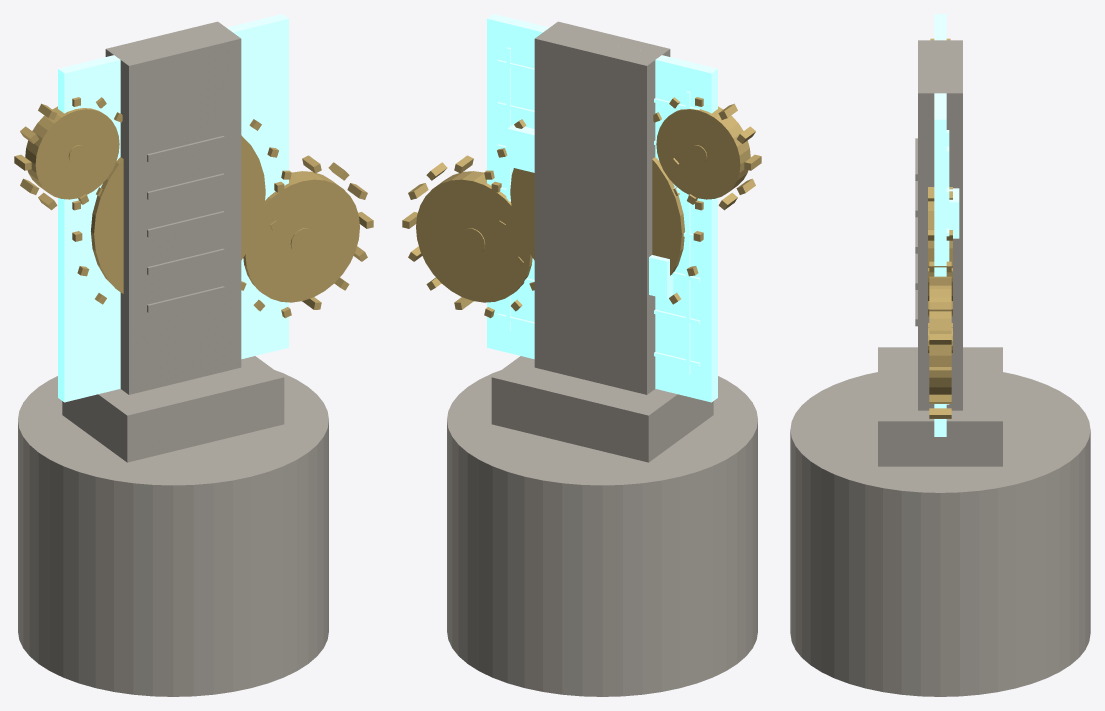
The model's file is RevealSculpture.glb.
The picture shows the model from 3 angles, left to right: view 1: azimuth 30°, elevation 25°; view 2: azimuth 150°, elevation 25°; view 3: azimuth 270°, elevation 25°; orthographic projection. The views are drawn at different scales.
Visible parts, largest first — view 1: Reveal_Pedestal, Reveal_Stage_Roman, Reveal_Stage_Gears, Reveal_Stage_Circuit; view 2: Reveal_Pedestal, Reveal_Stage_Roman, Reveal_Stage_Gears, Reveal_Stage_Circuit; view 3: Reveal_Pedestal, Reveal_Stage_Roman, Reveal_Stage_Gears, Reveal_Stage_Circuit.
Boxes of the visible parts, <box> form: Reveal_Pedestal: <box>18,370,328,696</box>; Reveal_Stage_Roman: <box>62,21,284,462</box>; Reveal_Stage_Gears: <box>14,97,373,318</box>; Reveal_Stage_Circuit: <box>58,14,288,402</box>; Reveal_Pedestal: <box>447,370,757,696</box>; Reveal_Stage_Roman: <box>491,21,713,462</box>; Reveal_Stage_Gears: <box>402,97,761,318</box>; Reveal_Stage_Circuit: <box>487,14,717,402</box>; Reveal_Pedestal: <box>790,372,1090,696</box>; Reveal_Stage_Roman: <box>878,40,1002,466</box>; Reveal_Stage_Gears: <box>928,38,952,418</box>; Reveal_Stage_Circuit: <box>934,14,959,436</box>.
Size of the model in its own units: 1.55 by 2.5 by 1.2.
